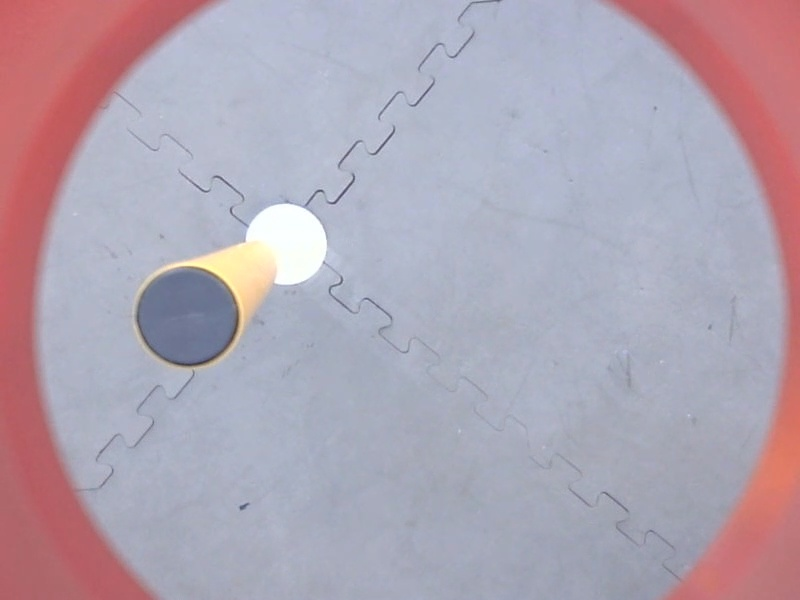tip: (126, 257, 249, 378)
